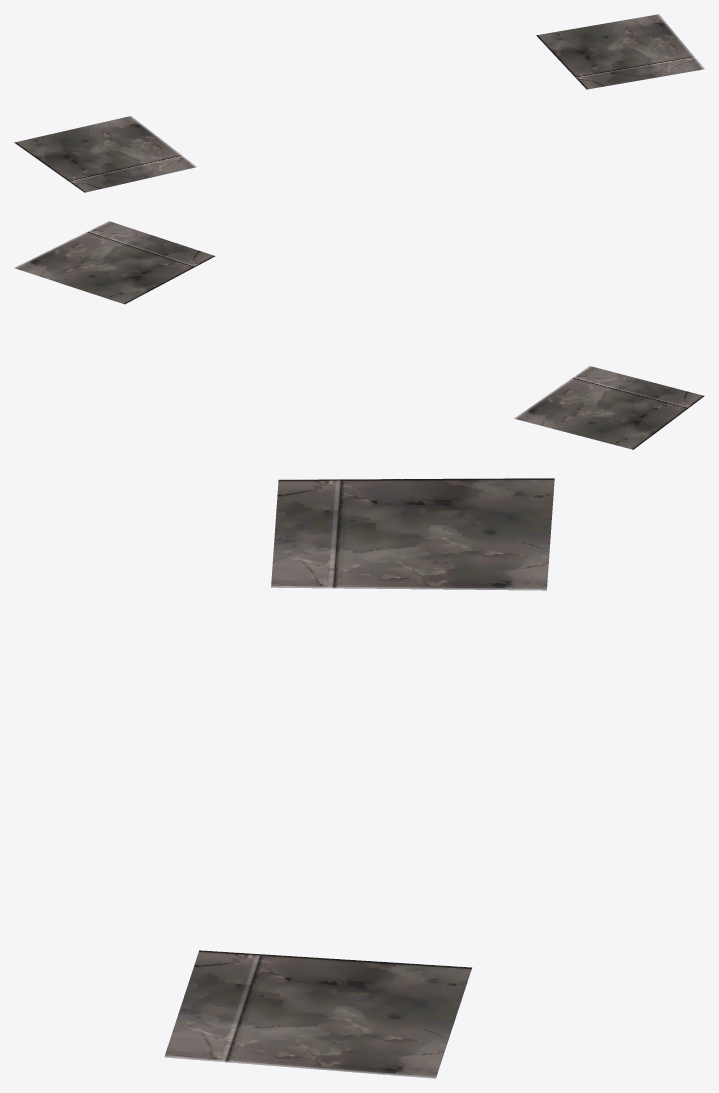
File: CH09_SMAUG_PLAYSURFACE_LAIR146.fbx
The picture shows the model from 3 angles, top to bottom: view 1: azimuth 30°, elevation 25°; view 2: azimuth 150°, elevation 25°; view 3: azimuth 270°, elevation 25°; orthographic projection. The views are drawn at different scales.
Visible parts, largest first — view 1: CH09_SMAUG_PLAYSURFACE_LAIR146; view 2: CH09_SMAUG_PLAYSURFACE_LAIR146; view 3: CH09_SMAUG_PLAYSURFACE_LAIR146.
Part boxes in pixels (x1,y1,x2,y2): CH09_SMAUG_PLAYSURFACE_LAIR146: (14,14,704,192); CH09_SMAUG_PLAYSURFACE_LAIR146: (14,221,704,449); CH09_SMAUG_PLAYSURFACE_LAIR146: (164,478,554,1078).
Bounding box in the file's own units: 56680 × 0.00254 × 15576.
Materials: 1 (1 with a texture image).
